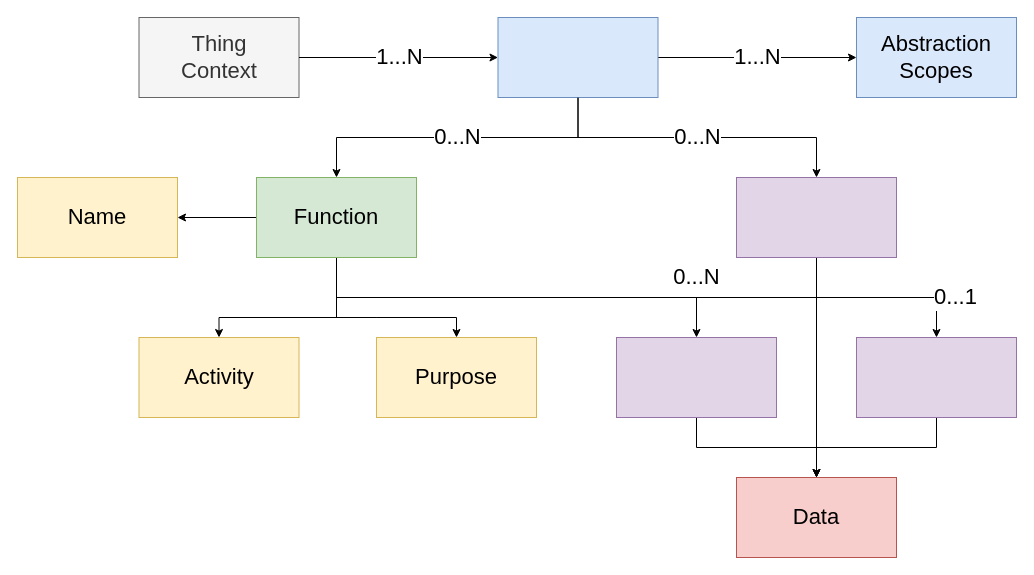
This 1034x575 diagram has some shape labels left out. The shapes that lost their labels are listed below. From the top down, each one's centre as x and y in pixels, then its label:
the point at 577,57: Thing
the point at 816,217: Property
the point at 696,377: Argument
the point at 936,377: Return Value
